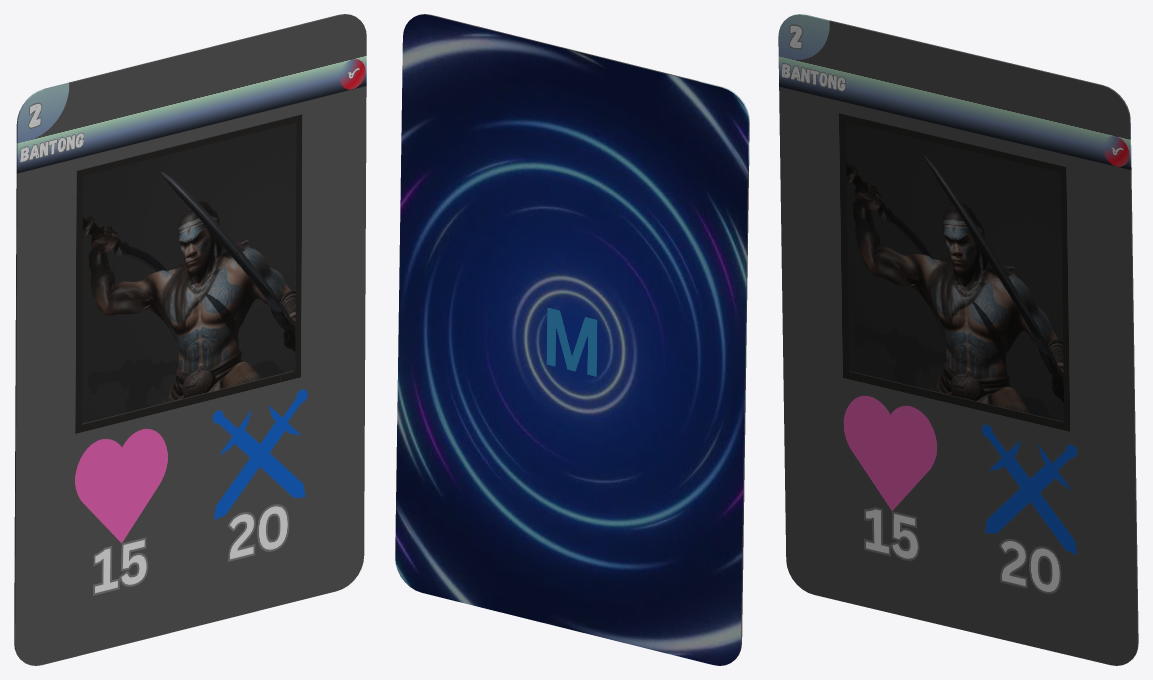
File: Bantong.glb
3 renders of one model, left to right at view 1: azimuth 30°, elevation 25°; view 2: azimuth 150°, elevation 25°; view 3: azimuth 330°, elevation 25°, orthographic.
Parts seen in each view (by area): view 1: Card; view 2: Card; view 3: Card.
Boxes of the visible parts, x1,y1,x2,y2 form: Card: (14,14,366,665); Card: (395,14,749,665); Card: (778,14,1138,665).
Bounding box in the file's own units: 0.0564 × 0.0891 × 0.00197.
2 materials, 2 textured.
